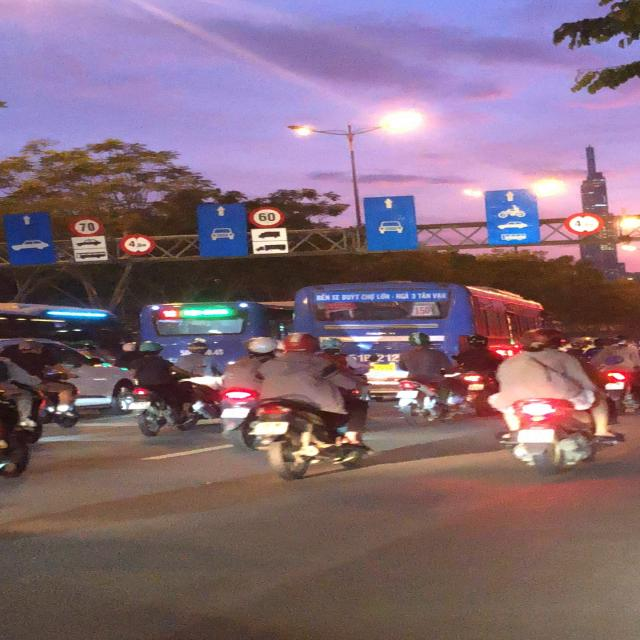Bien bao han che chieu cao: (558, 209, 604, 239), (116, 232, 159, 257)
Bien bao toc do toi da cho phep: (245, 203, 286, 230), (65, 214, 107, 236)
